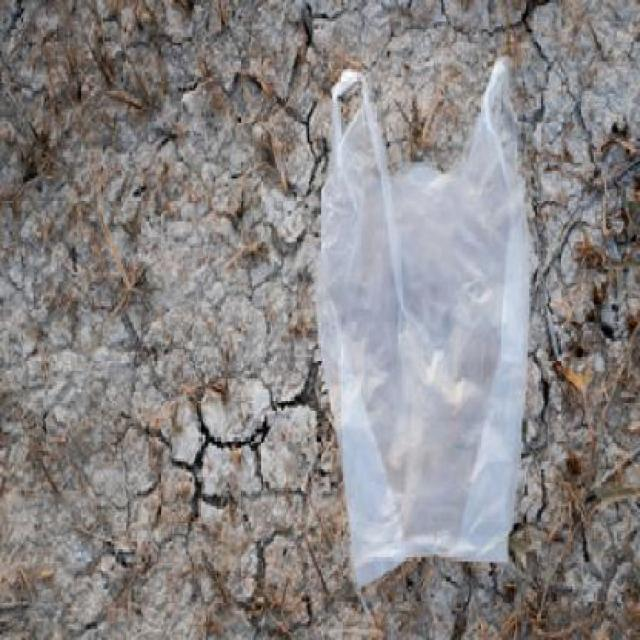plastic bag: (305, 48, 556, 604)
